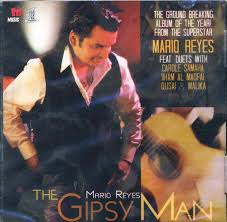middle_eastern_male: (71, 15, 125, 69)
